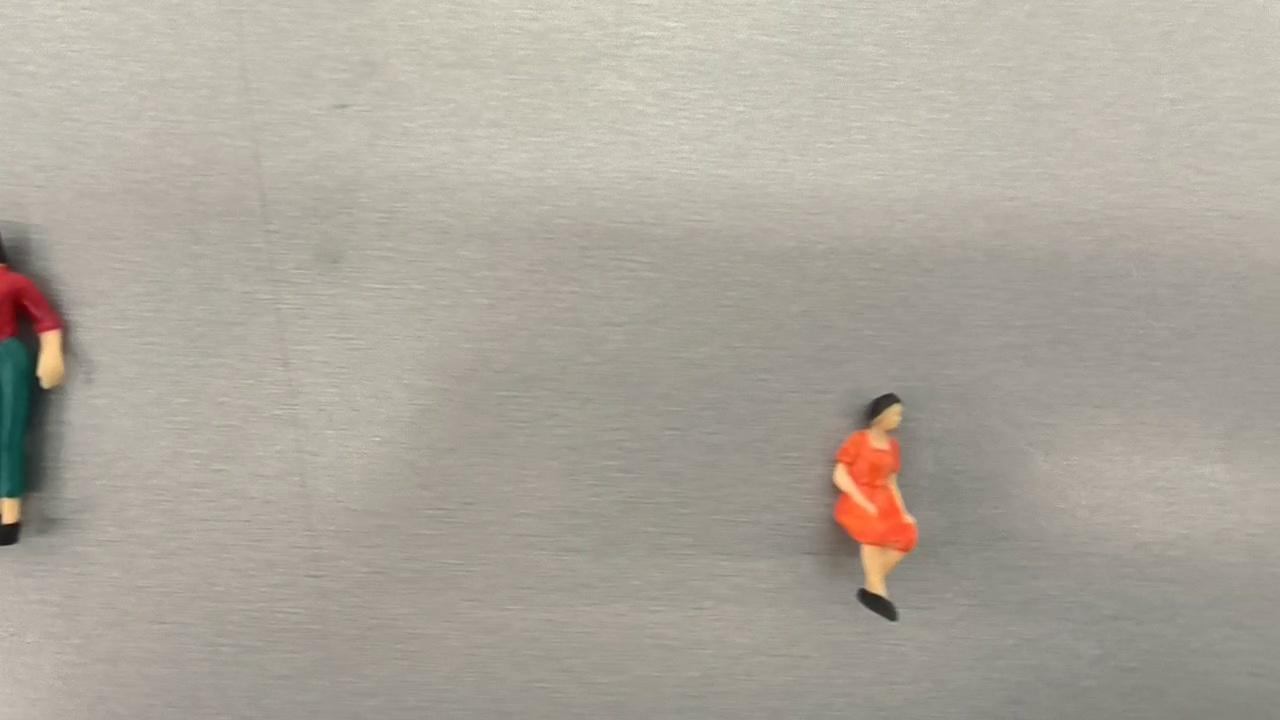human: (832, 392, 919, 620)
